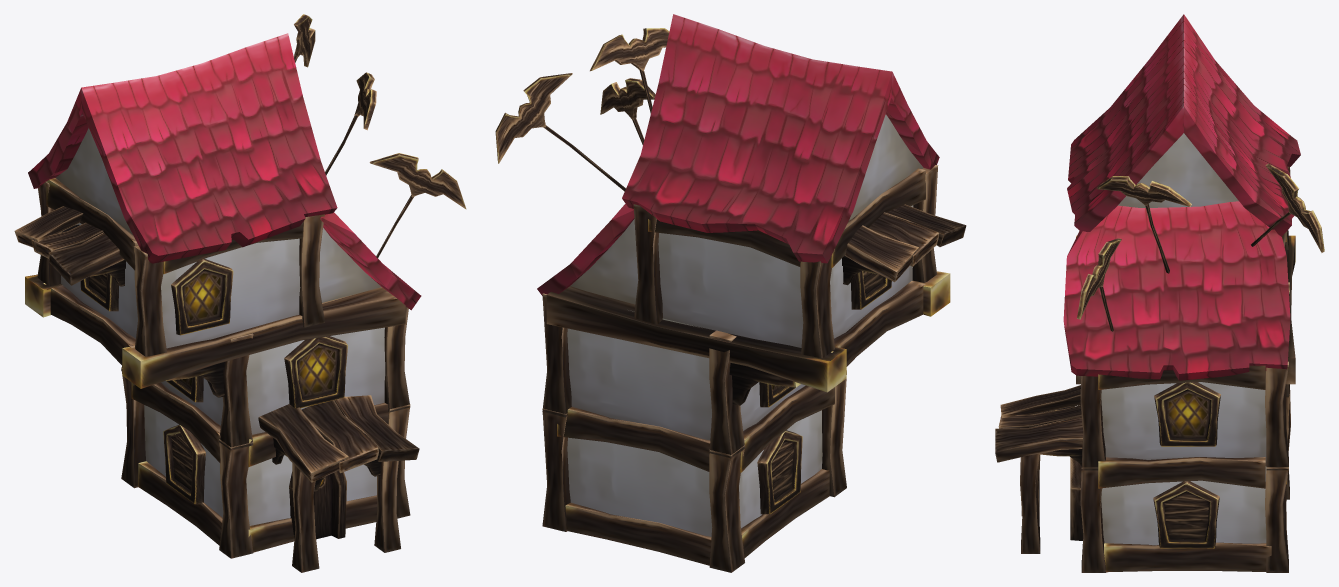
The model's file is Vampire_Village_Building_03.FBX.
The picture shows the model from 3 angles, left to right: view 1: azimuth 30°, elevation 25°; view 2: azimuth 150°, elevation 25°; view 3: azimuth 270°, elevation 25°; orthographic projection. The views are drawn at different scales.
Parts seen in each view (by area): view 1: Vampire_Village_Building_03; view 2: Vampire_Village_Building_03; view 3: Vampire_Village_Building_03.
Part boxes in pixels (x1,y1,x2,y2): Vampire_Village_Building_03: [14, 14, 466, 572]; Vampire_Village_Building_03: [495, 14, 966, 572]; Vampire_Village_Building_03: [995, 14, 1324, 572].
Size of the model in its own units: 865 by 1025 by 703.
